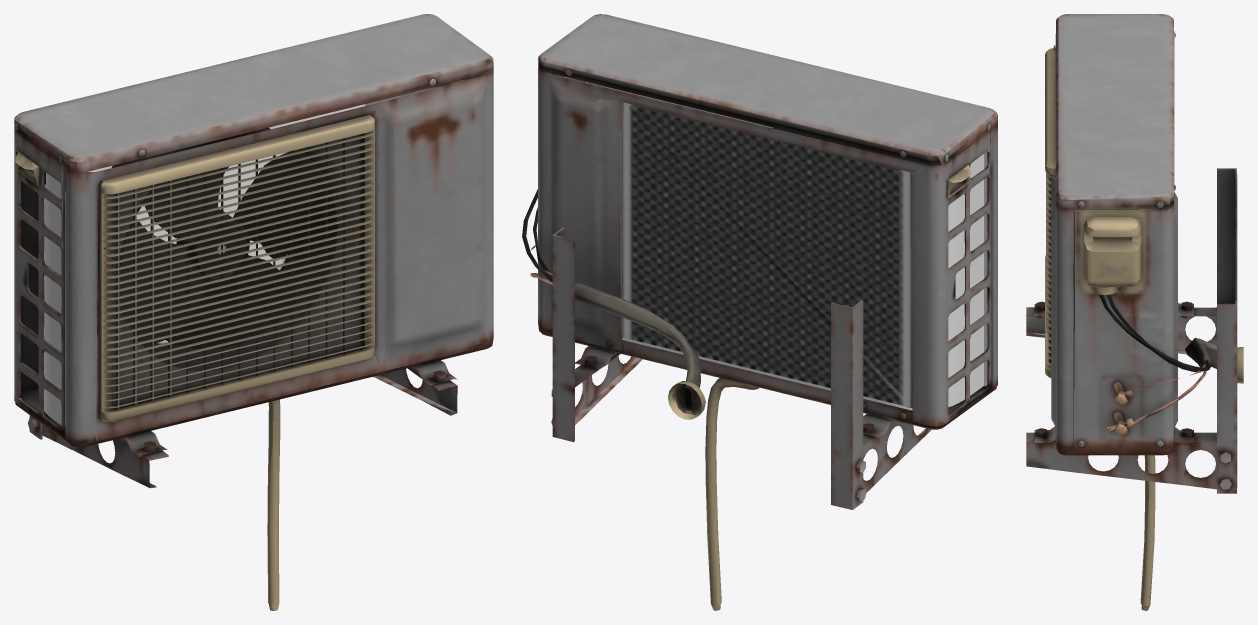
Rendered from ac_unit.glb.
3 views of the same model, side by side, from view 1: azimuth 30°, elevation 25°; view 2: azimuth 150°, elevation 25°; view 3: azimuth 270°, elevation 25° (orthographic). The views are drawn at different scales.
Parts seen in each view (by area): view 1: mesh; view 2: mesh; view 3: mesh.
Part boxes in pixels (bbox=[...]): mesh: bbox=[14, 14, 493, 610]; mesh: bbox=[522, 14, 997, 610]; mesh: bbox=[1026, 14, 1243, 610].
Bounding box in the file's own units: 0.8007 × 0.9279 × 0.3744.
1 material, 1 textured.
